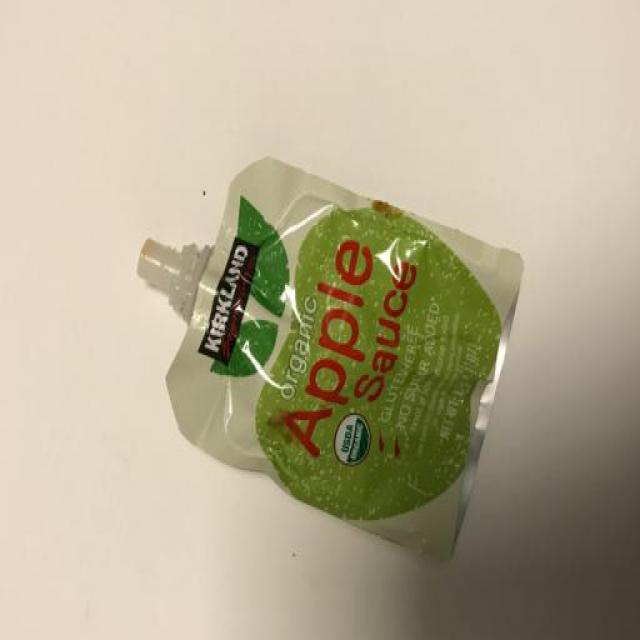plastic: (97, 148, 596, 581)
